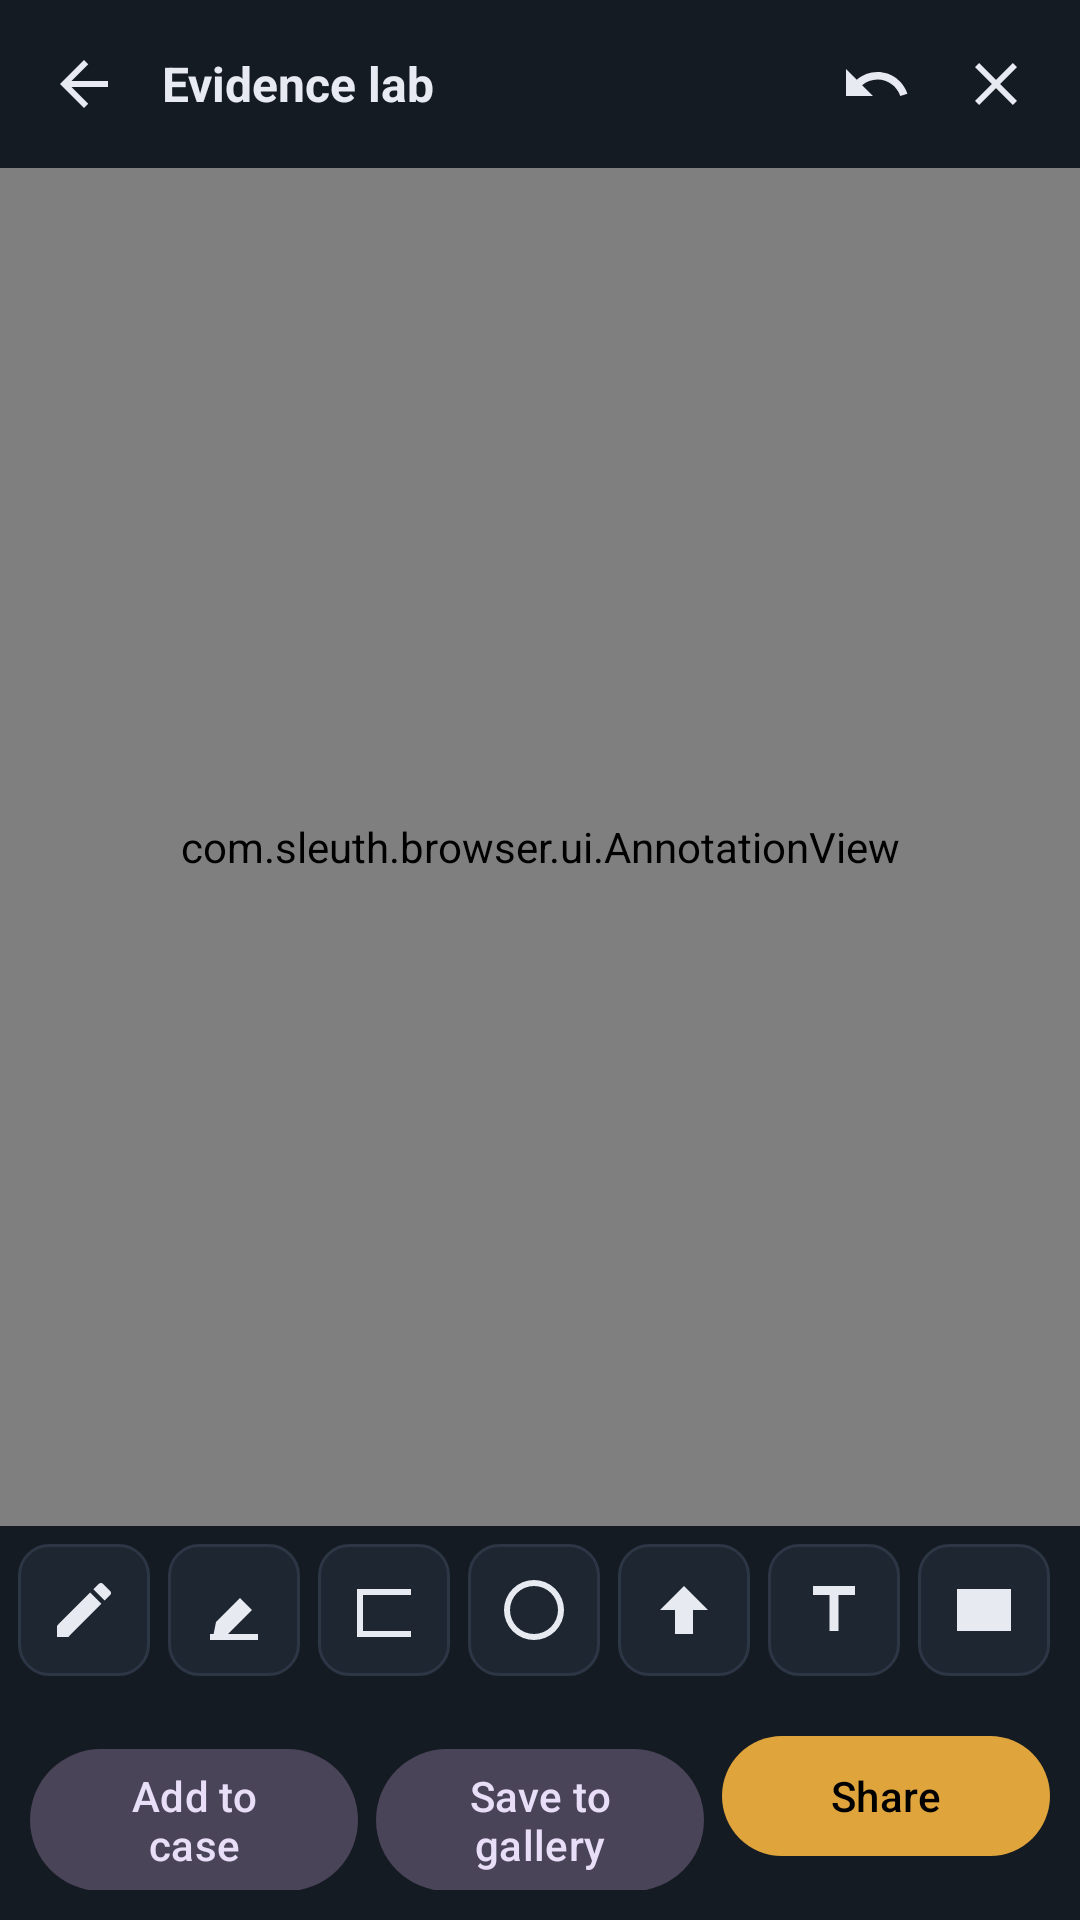

Icon click points for this 1080px×1920px phone screenshot, format point (x, y):
Arrow: point (684, 1610)
Back: point (84, 84)
Box: point (384, 1610)
Circle: point (534, 1610)
Clear: point (996, 84)
Marker: point (234, 1610)
Pen: point (84, 1610)
Redact: point (984, 1610)
text: point (834, 1610)
Undo: point (877, 82)
